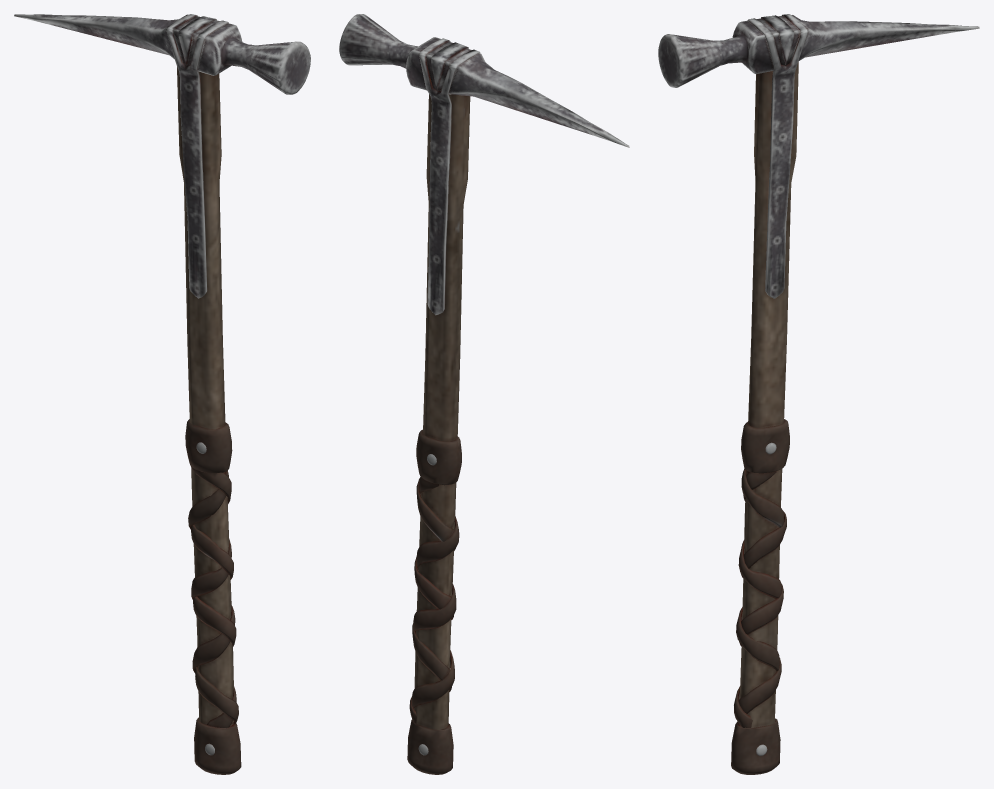
The model's file is lucerne-hammer.glb.
The picture shows the model from 3 angles, left to right: view 1: azimuth 30°, elevation 25°; view 2: azimuth 210°, elevation 25°; view 3: azimuth 270°, elevation 25°; orthographic projection. The views are drawn at different scales.
Parts seen in each view (by area): view 1: Lucerne Hammer; view 2: Lucerne Hammer; view 3: Lucerne Hammer.
Part boxes in pixels (bbox=[...]): Lucerne Hammer: bbox=[14, 14, 310, 774]; Lucerne Hammer: bbox=[339, 14, 629, 774]; Lucerne Hammer: bbox=[658, 14, 979, 774].
Bounding box in the file's own units: 0.2079 × 1 × 0.3882.
Materials: 1 (1 with a texture image).
